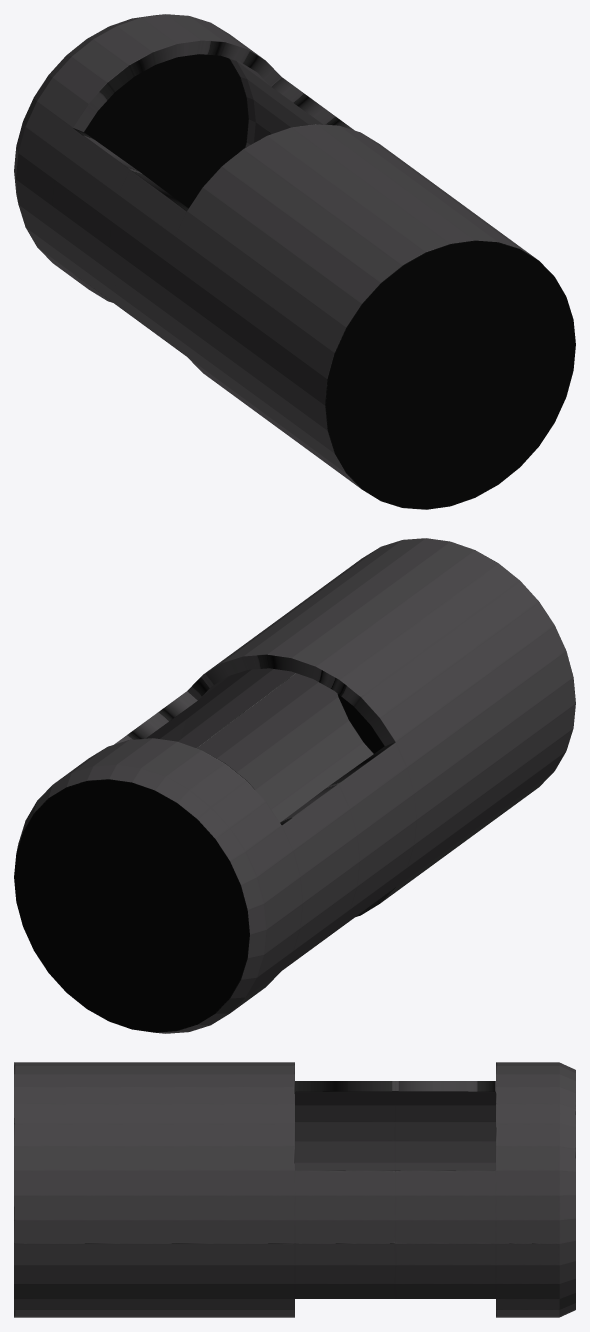
File: Basura.fbx
3 views of the same model, one above another, from view 1: azimuth 30°, elevation 25°; view 2: azimuth 150°, elevation 25°; view 3: azimuth 270°, elevation 25° (orthographic). The views are drawn at different scales.
Visible parts, largest first — view 1: Basura.001; view 2: Basura.001; view 3: Basura.001.
Part boxes in pixels (<box>): Basura.001: <box>14,14,575,509</box>; Basura.001: <box>14,538,575,1033</box>; Basura.001: <box>14,1062,575,1317</box>.
Size of the model in its own units: 200 by 200 by 440.
